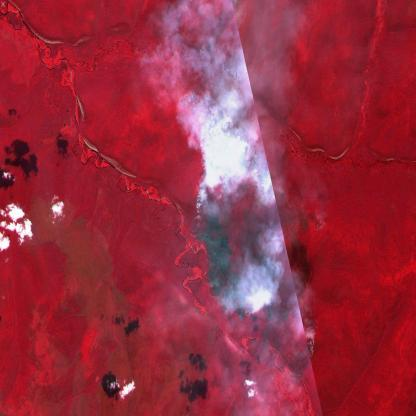fire: (192, 110, 253, 223), (238, 283, 264, 324), (298, 322, 316, 360)
